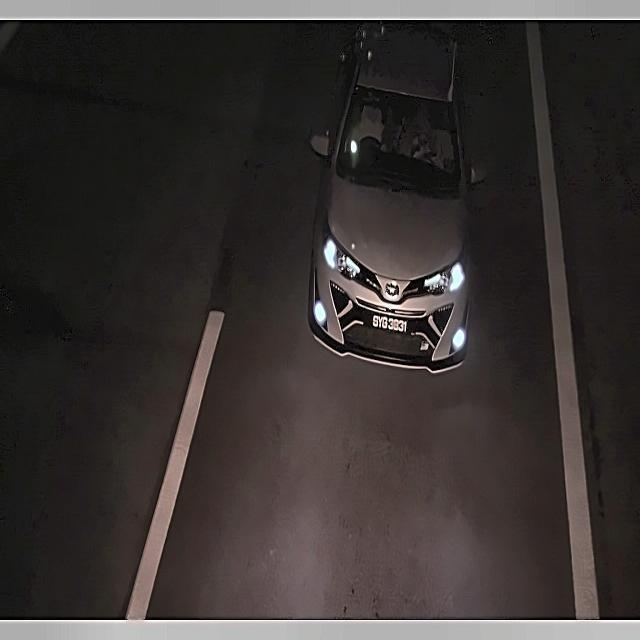car: (366, 305, 417, 342)
